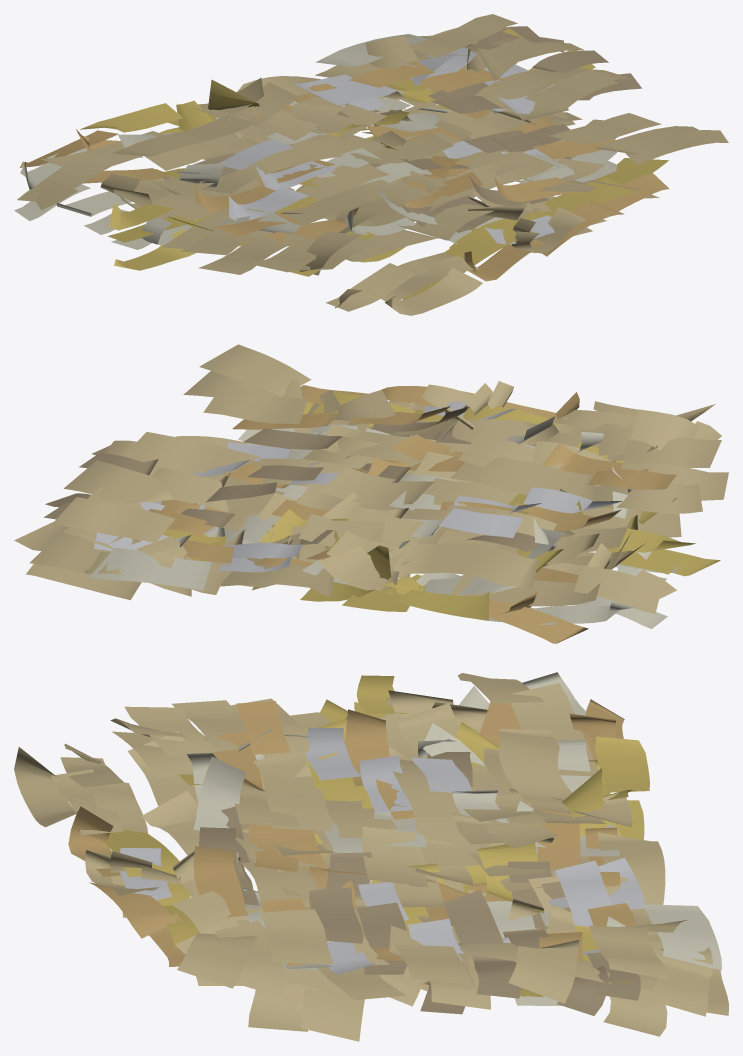
Rendered from pavimento.fbx.
3 renders of one model, top to bottom at view 1: azimuth 30°, elevation 25°; view 2: azimuth 150°, elevation 25°; view 3: azimuth 270°, elevation 25°, orthographic. The views are drawn at different scales.
Visible parts, largest first — view 1: brush_CelVinyl_g55_b0; view 2: brush_CelVinyl_g55_b0; view 3: brush_CelVinyl_g55_b0.
Part boxes in pixels (x1,y1,x2,y2): brush_CelVinyl_g55_b0: [14, 14, 728, 315]; brush_CelVinyl_g55_b0: [14, 344, 728, 643]; brush_CelVinyl_g55_b0: [14, 672, 728, 1041].
Bounding box in the file's own units: 53.64 × 8.82 × 48.44.
